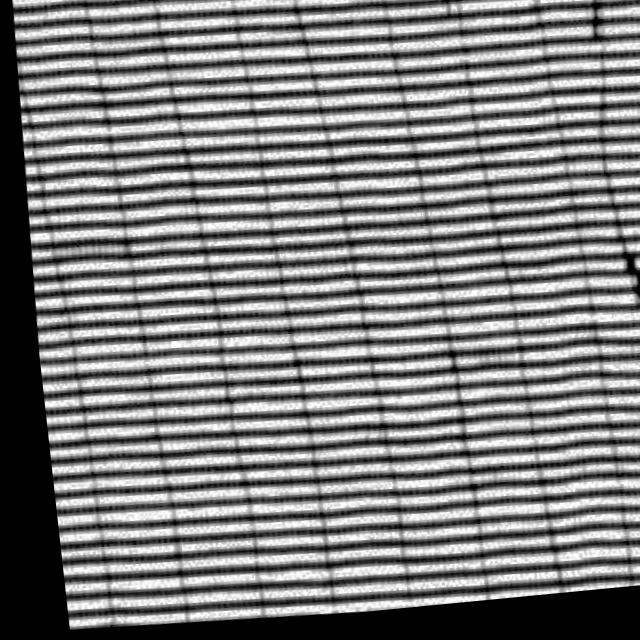Stitch: (578, 100, 640, 431)
